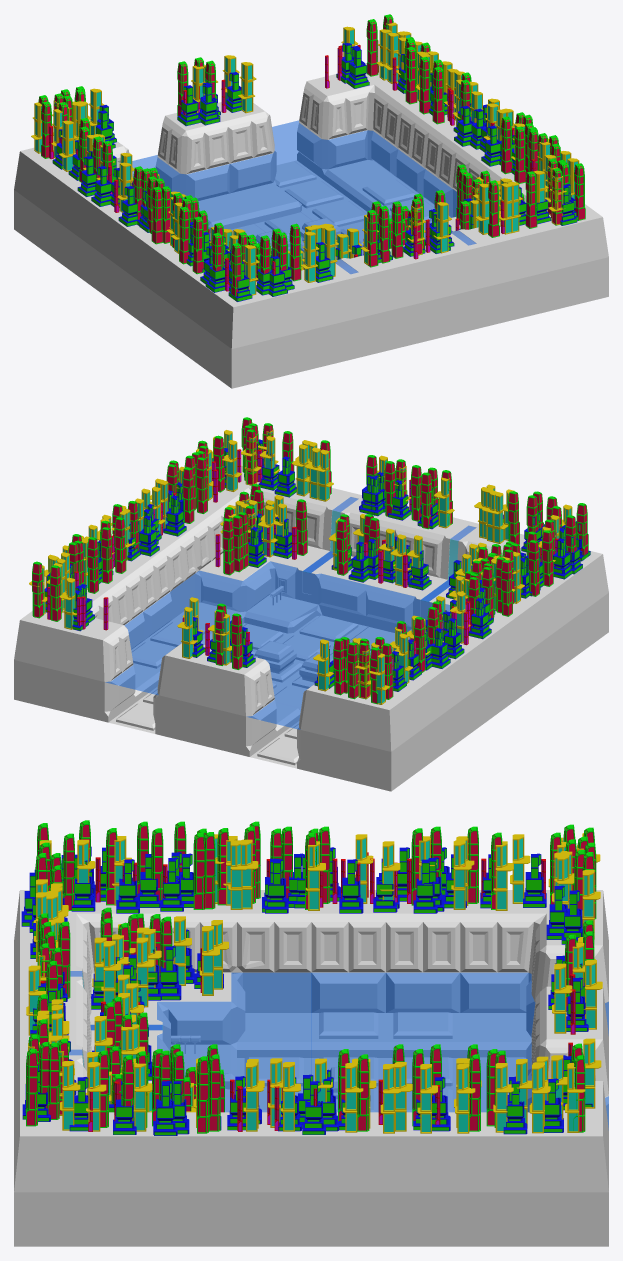
The model's file is AbyssDock_MainStructure.fbx.
3 views of the same model, one above another, from view 1: azimuth 30°, elevation 25°; view 2: azimuth 150°, elevation 25°; view 3: azimuth 270°, elevation 25° (orthographic). The views are drawn at different scales.
Parts seen in each view (by area): view 1: MainStructure, Water, SkyScraperSpawner, SkyScraperSpawner|SkyScraper4|Dupli|262, SkyScraperSpawner|SkyScraper2|Dupli|13, SkyScraperSpawner|SkyScraper2|Dupli|391, SkyScraperSpawner|SkyScraper2|Dupli|135, SkyScraperSpawner|SkyScraper2|Dupli|275, SkyScraperSpawner|SkyScraper2|Dupli|319, SkyScraperSpawner|SkyScraper2|Dupli|331, SkyScraperSpawner|SkyScraper2|Dupli|367, SkyScraperSpawner|SkyScraper4|Dupli|91 (+26 smaller); view 2: MainStructure, Water, SkyScraperSpawner, WaterFall, SkyScraperSpawner|SkyScraper2|Dupli|244, SkyScraperSpawner|SkyScraper2|Dupli|203, SkyScraperSpawner|SkyScraper2|Dupli|331, SkyScraperSpawner|SkyScraper2|Dupli|363, SkyScraperSpawner|SkyScraper2|Dupli|294, SkyScraperSpawner|SkyScraper2|Dupli|319, SkyScraperSpawner|SkyScraper2|Dupli|323, SkyScraperSpawner|SkyScraper2|Dupli|254 (+40 smaller); view 3: MainStructure, Water, SkyScraperSpawner, SkyScraperSpawner|SkyScraper4|Dupli|262, SkyScraperSpawner|SkyScraper4|Dupli|104, SkyScraperSpawner|SkyScraper4|Dupli|316, SkyScraperSpawner|SkyScraper4|Dupli|91, SkyScraperSpawner|SkyScraper2|Dupli|334, SkyScraperSpawner|SkyScraper3|Dupli|120, SkyScraperSpawner|SkyScraper4|Dupli|272, SkyScraperSpawner|SkyScraper4|Dupli|287, SkyScraperSpawner|SkyScraper2|Dupli|148 (+74 smaller).
Boxes of the visible parts, bbox=[...] form: MainStructure: bbox=[14, 65, 608, 388]; Water: bbox=[132, 120, 456, 259]; SkyScraperSpawner: bbox=[32, 71, 552, 300]; SkyScraperSpawner|SkyScraper4|Dupli|262: bbox=[238, 62, 256, 113]; SkyScraperSpawner|SkyScraper2|Dupli|13: bbox=[391, 201, 403, 258]; SkyScraperSpawner|SkyScraper2|Dupli|391: bbox=[525, 171, 537, 228]; SkyScraperSpawner|SkyScraper2|Dupli|135: bbox=[151, 186, 163, 244]; SkyScraperSpawner|SkyScraper2|Dupli|275: bbox=[366, 19, 378, 76]; SkyScraperSpawner|SkyScraper2|Dupli|319: bbox=[405, 46, 417, 104]; SkyScraperSpawner|SkyScraper2|Dupli|331: bbox=[432, 66, 444, 124]; SkyScraperSpawner|SkyScraper2|Dupli|367: bbox=[514, 126, 526, 183]; SkyScraperSpawner|SkyScraper4|Dupli|91: bbox=[59, 120, 77, 171]; MainStructure: bbox=[14, 466, 608, 791]; Water: bbox=[105, 551, 449, 729]; SkyScraperSpawner: bbox=[33, 471, 585, 704]; WaterFall: bbox=[303, 497, 475, 601]; SkyScraperSpawner|SkyScraper2|Dupli|244: bbox=[222, 518, 234, 575]; SkyScraperSpawner|SkyScraper2|Dupli|203: bbox=[336, 519, 348, 575]; SkyScraperSpawner|SkyScraper2|Dupli|331: bbox=[114, 517, 126, 573]; SkyScraperSpawner|SkyScraper2|Dupli|363: bbox=[182, 467, 194, 523]; SkyScraperSpawner|SkyScraper2|Dupli|294: bbox=[32, 561, 43, 618]; SkyScraperSpawner|SkyScraper2|Dupli|319: bbox=[87, 537, 98, 593]; SkyScraperSpawner|SkyScraper2|Dupli|323: bbox=[101, 527, 112, 583]; SkyScraperSpawner|SkyScraper2|Dupli|254: bbox=[231, 613, 242, 669]; MainStructure: bbox=[14, 890, 608, 1246]; Water: bbox=[91, 972, 608, 1129]; SkyScraperSpawner: bbox=[32, 895, 590, 1131]; SkyScraperSpawner|SkyScraper4|Dupli|262: bbox=[552, 963, 572, 1033]; SkyScraperSpawner|SkyScraper4|Dupli|104: bbox=[451, 840, 471, 909]; SkyScraperSpawner|SkyScraper4|Dupli|316: bbox=[455, 1064, 475, 1133]; SkyScraperSpawner|SkyScraper4|Dupli|91: bbox=[510, 834, 530, 903]; SkyScraperSpawner|SkyScraper2|Dupli|334: bbox=[357, 1054, 369, 1131]; SkyScraperSpawner|SkyScraper3|Dupli|120: bbox=[339, 859, 363, 913]; SkyScraperSpawner|SkyScraper4|Dupli|272: bbox=[343, 1063, 363, 1132]; SkyScraperSpawner|SkyScraper4|Dupli|287: bbox=[60, 1061, 80, 1130]; SkyScraperSpawner|SkyScraper2|Dupli|148: bbox=[193, 832, 205, 909].
Size of the model in its own units: 500000 by 167599 by 500000.
